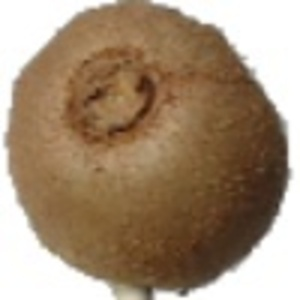kiwi: (1, 1, 291, 300)
